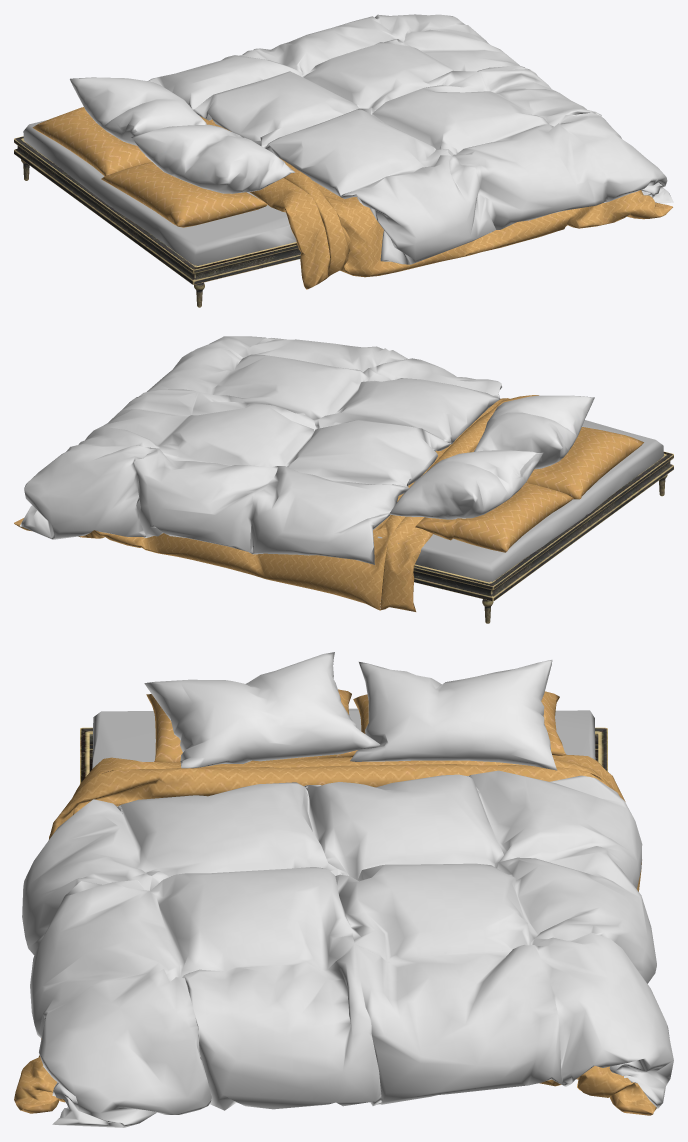
File: fit-bed-guest.glb
The picture shows the model from 3 angles, top to bottom: view 1: azimuth 30°, elevation 25°; view 2: azimuth 150°, elevation 25°; view 3: azimuth 270°, elevation 25°; orthographic projection. The views are drawn at different scales.
Size of the model in its own units: 12.57 by 2.83 by 10.25.
Materials: 5 (5 with a texture image).
